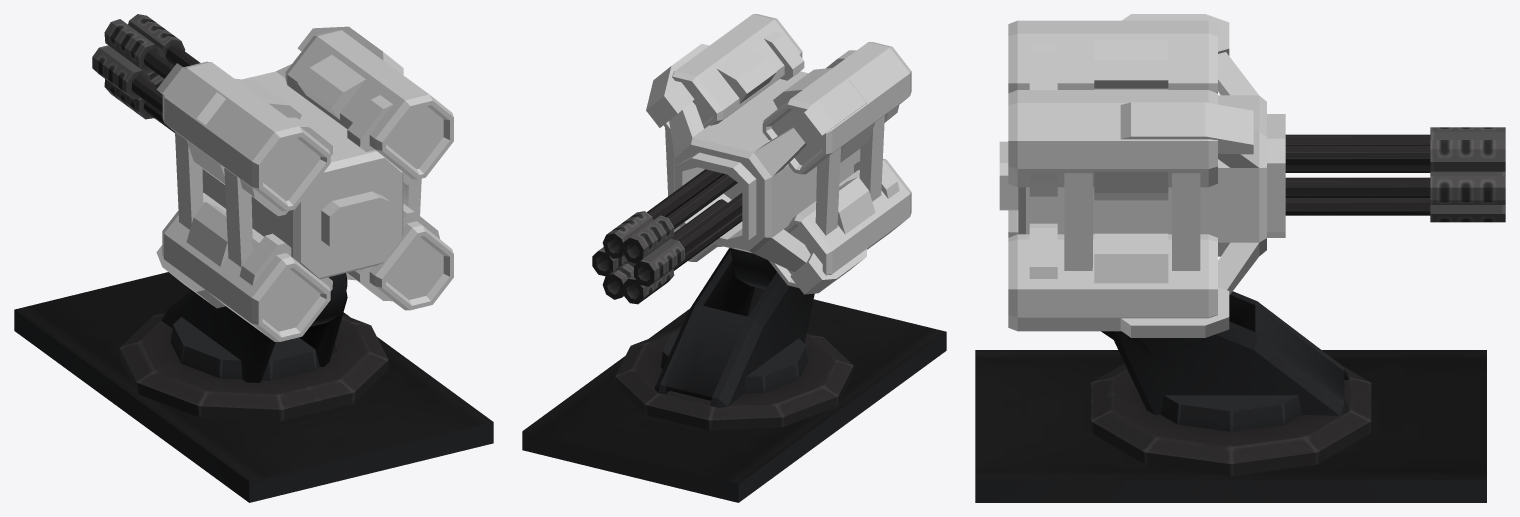
File: PDC_AUTO_CANNON.fbx
3 views of the same model, side by side, from view 1: azimuth 30°, elevation 25°; view 2: azimuth 150°, elevation 25°; view 3: azimuth 270°, elevation 25° (orthographic). The views are drawn at different scales.
Visible parts, largest first — view 1: Station_Block-C001.014, PDC_Lift, PDC_Stand.004, tri_Barrels.014, PDC_Stand.014; view 2: Station_Block-C001.014, PDC_Lift, PDC_Stand.014, PDC_Stand.004, tri_Barrels.014; view 3: Station_Block-C001.014, PDC_Lift, PDC_Stand.004, tri_Barrels.014, PDC_Stand.014.
Part boxes in pixels (x1=…): Station_Block-C001.014: x1=156, y1=26, x2=453, y2=341; PDC_Lift: x1=14, y1=272, x2=493, y2=502; PDC_Stand.004: x1=119, y1=313, x2=388, y2=421; tri_Barrels.014: x1=92, y1=14, x2=200, y2=132; PDC_Stand.014: x1=161, y1=290, x2=347, y2=382; Station_Block-C001.014: x1=646, y1=14, x2=911, y2=294; PDC_Lift: x1=522, y1=287, x2=946, y2=502; PDC_Stand.014: x1=654, y1=248, x2=814, y2=407; PDC_Stand.004: x1=615, y1=326, x2=853, y2=430; tri_Barrels.014: x1=592, y1=169, x2=742, y2=304; Station_Block-C001.014: x1=999, y1=14, x2=1285, y2=339; PDC_Lift: x1=975, y1=350, x2=1486, y2=502; PDC_Stand.004: x1=1091, y1=363, x2=1371, y2=476; tri_Barrels.014: x1=1285, y1=127, x2=1505, y2=222; PDC_Stand.014: x1=1111, y1=291, x2=1348, y2=415.
Size of the model in its own units: 3 by 4.1 by 5.18.
